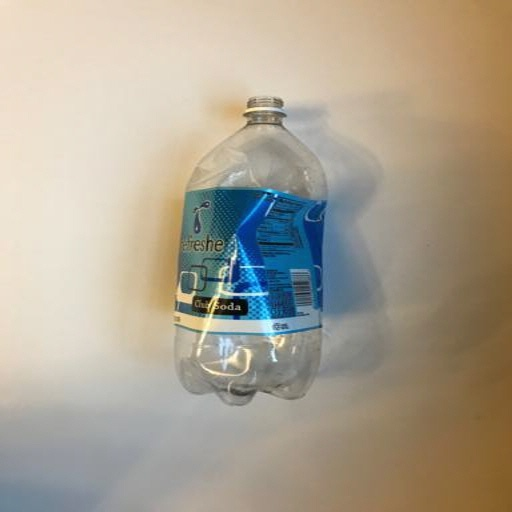Plastic_0: (173, 89, 326, 408)
